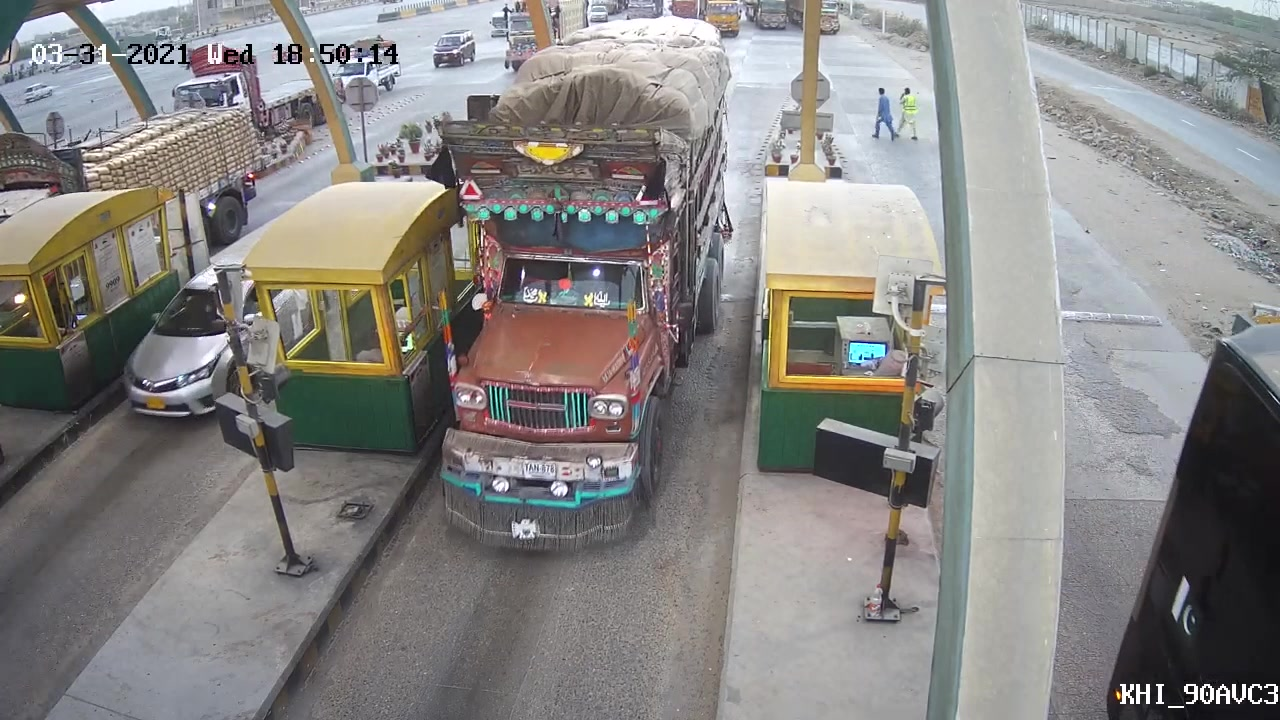F5: (419, 11, 740, 552)
